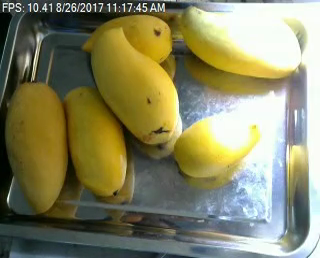Mango: (89, 28, 179, 143), (181, 4, 301, 77), (6, 80, 67, 213), (67, 88, 128, 198), (174, 117, 259, 178), (81, 14, 173, 66)
